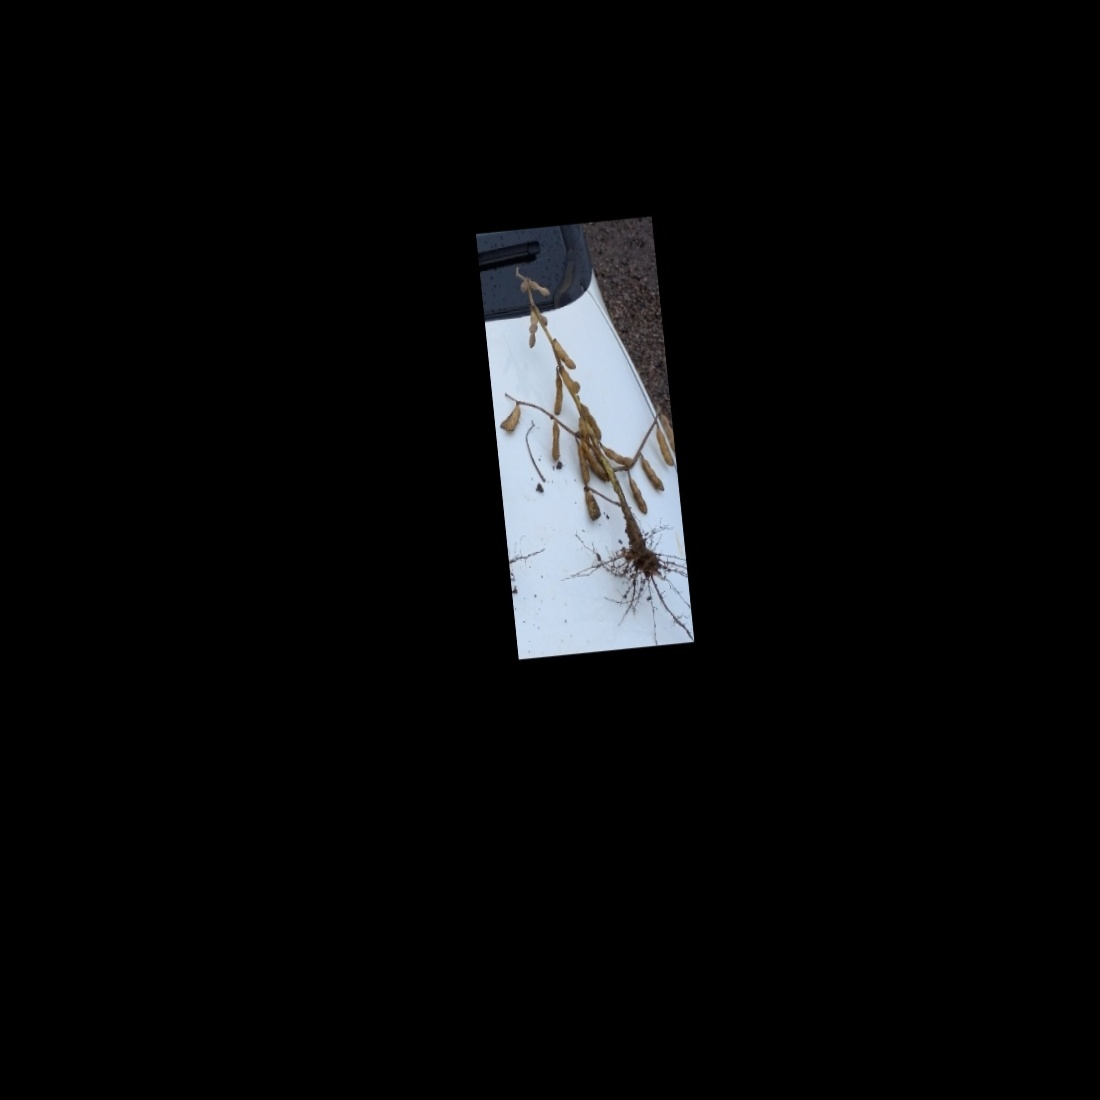pod: (649, 422, 674, 472), (625, 470, 650, 518), (639, 453, 665, 496), (552, 336, 578, 373), (548, 374, 567, 417), (601, 443, 633, 467), (574, 441, 591, 485), (523, 308, 540, 350), (559, 366, 582, 393), (547, 423, 563, 461), (529, 276, 551, 298)
soy: (482, 247, 691, 618)
